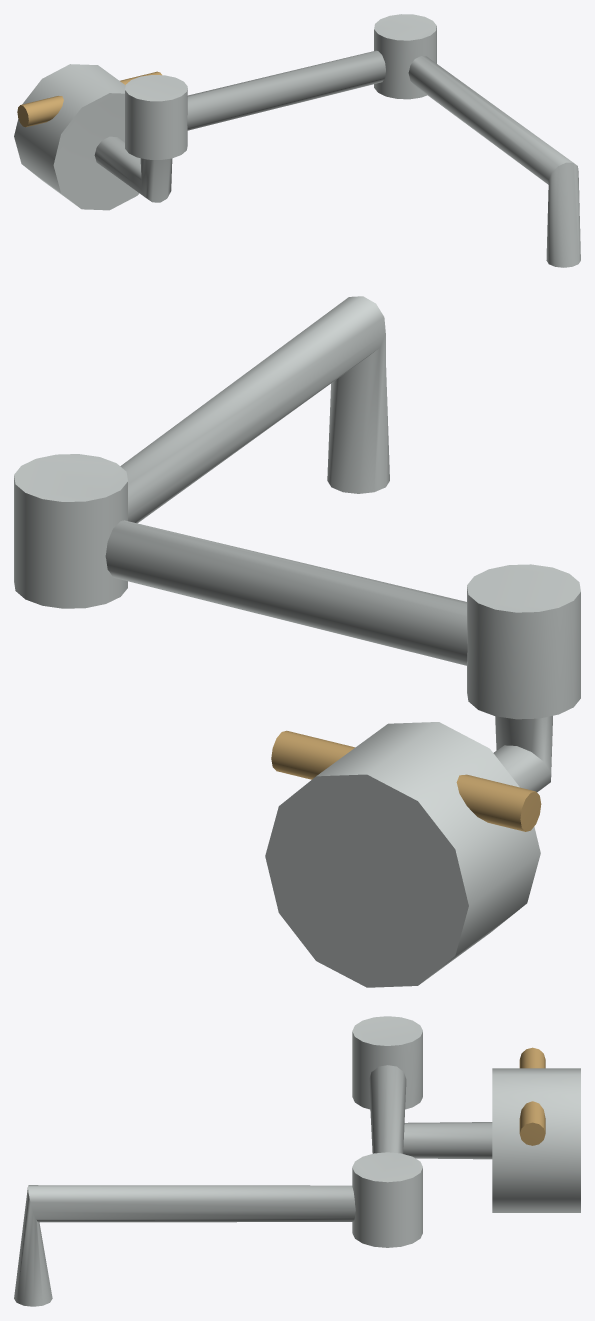
Rendered from pot-filler-lod0.glb.
The picture shows the model from 3 angles, top to bottom: view 1: azimuth 30°, elevation 25°; view 2: azimuth 150°, elevation 25°; view 3: azimuth 270°, elevation 25°; orthographic projection. The views are drawn at different scales.
Parts seen in each view (by area): view 1: pot-filler.lod0::pot filler swing__furniture polished nickel, pot-filler.lod0__furniture polished nickel, pot-filler.lod0__furniture brushed brass; view 2: pot-filler.lod0::pot filler swing__furniture polished nickel, pot-filler.lod0__furniture polished nickel, pot-filler.lod0__furniture brushed brass; view 3: pot-filler.lod0::pot filler swing__furniture polished nickel, pot-filler.lod0__furniture polished nickel, pot-filler.lod0__furniture brushed brass.
Part boxes in pixels (x1,y1,x2,y2): pot-filler.lod0::pot filler swing__furniture polished nickel: [125, 14, 580, 267]; pot-filler.lod0__furniture polished nickel: [14, 64, 172, 210]; pot-filler.lod0__furniture brushed brass: [17, 71, 161, 127]; pot-filler.lod0::pot filler swing__furniture polished nickel: [14, 296, 580, 719]; pot-filler.lod0__furniture polished nickel: [265, 716, 552, 987]; pot-filler.lod0__furniture brushed brass: [271, 730, 541, 831]; pot-filler.lod0::pot filler swing__furniture polished nickel: [14, 1016, 422, 1306]; pot-filler.lod0__furniture polished nickel: [403, 1068, 580, 1212]; pot-filler.lod0__furniture brushed brass: [519, 1047, 545, 1145].
Bounding box in the file's own units: 0.277 × 0.12 × 0.352.
